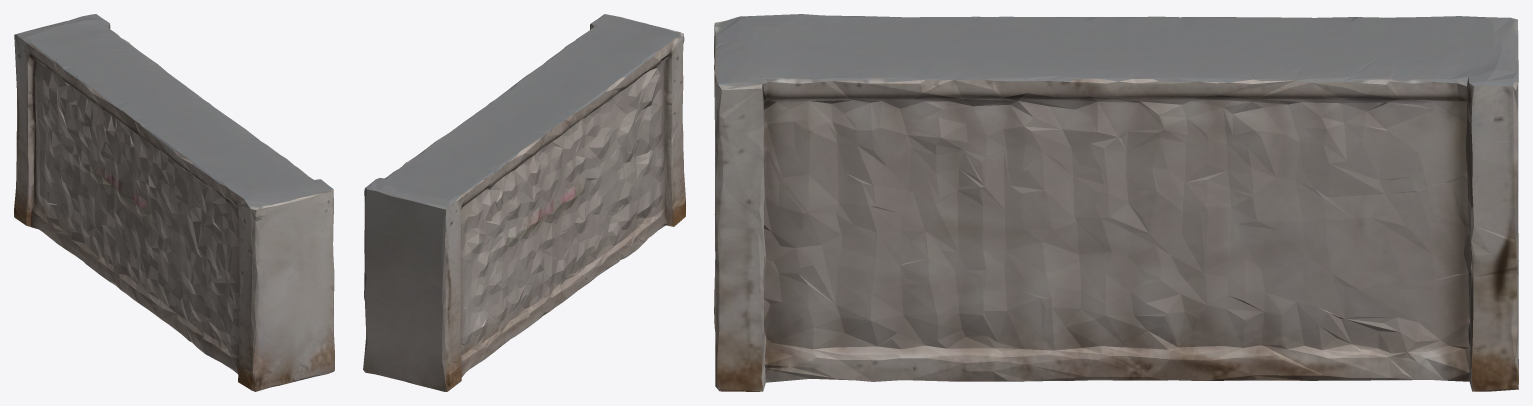
File: bar_concrete.glb
The picture shows the model from 3 angles, left to right: view 1: azimuth 30°, elevation 25°; view 2: azimuth 150°, elevation 25°; view 3: azimuth 270°, elevation 25°; orthographic projection. The views are drawn at different scales.
Parts seen in each view (by area): view 1: bar_concrete_tex; view 2: bar_concrete_tex; view 3: bar_concrete_tex.
Part boxes in pixels (x1,y1,x2,y2): bar_concrete_tex: (14,14,334,391); bar_concrete_tex: (363,14,685,391); bar_concrete_tex: (714,14,1518,391).
Size of the model in its own units: 0.4696 by 0.9822 by 2.3.
1 material, 1 textured.
